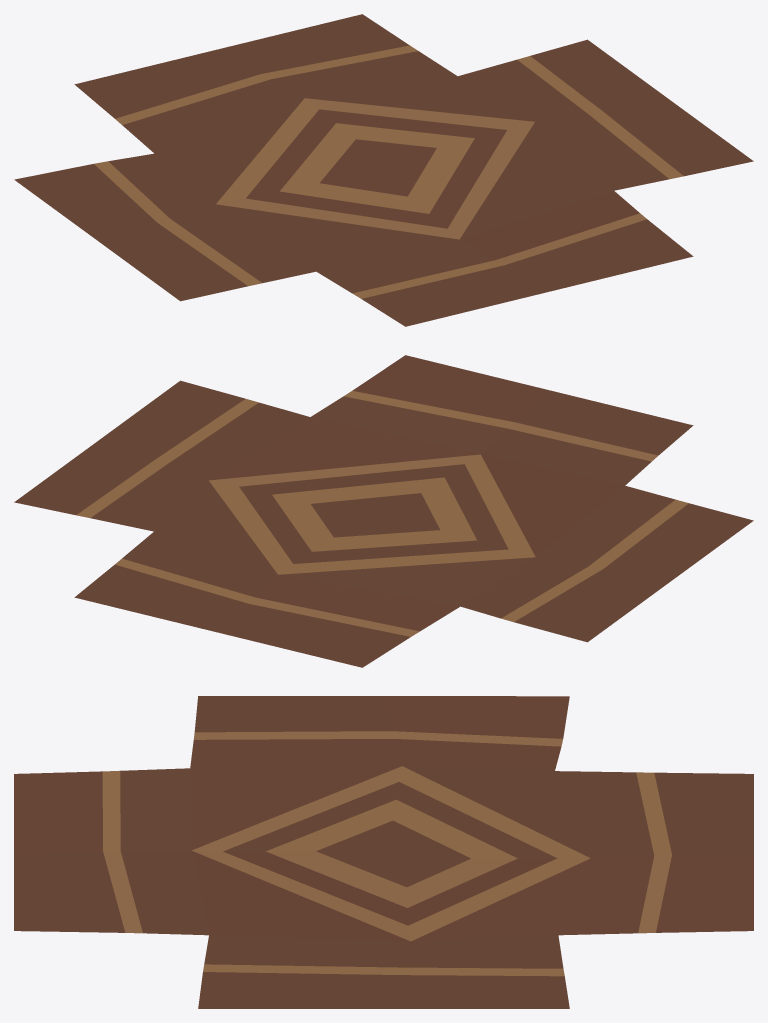
Rendered from Rug_4_Way.fbx.
The picture shows the model from 3 angles, top to bottom: view 1: azimuth 30°, elevation 25°; view 2: azimuth 150°, elevation 25°; view 3: azimuth 270°, elevation 25°; orthographic projection. The views are drawn at different scales.
Visible parts, largest first — view 1: Rug_4_Way; view 2: Rug_4_Way; view 3: Rug_4_Way.
Part boxes in pixels (left/top/right/bottom): Rug_4_Way: left=14, top=14, right=753, bottom=326; Rug_4_Way: left=14, top=355, right=753, bottom=667; Rug_4_Way: left=14, top=696, right=753, bottom=1008.
Bounding box in the file's own units: 100 × 0.7812 × 100.
